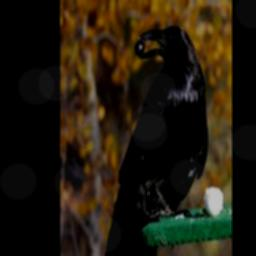Crow: (103, 25, 209, 256)
